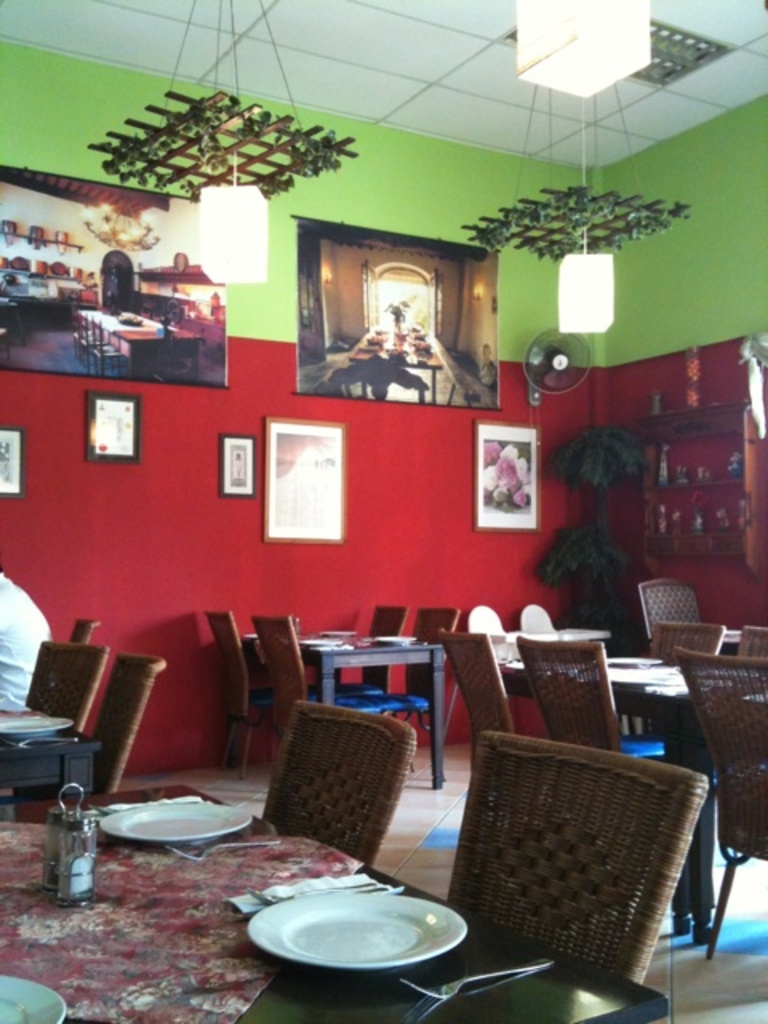plate: (243, 867, 489, 971), (92, 800, 257, 848)
